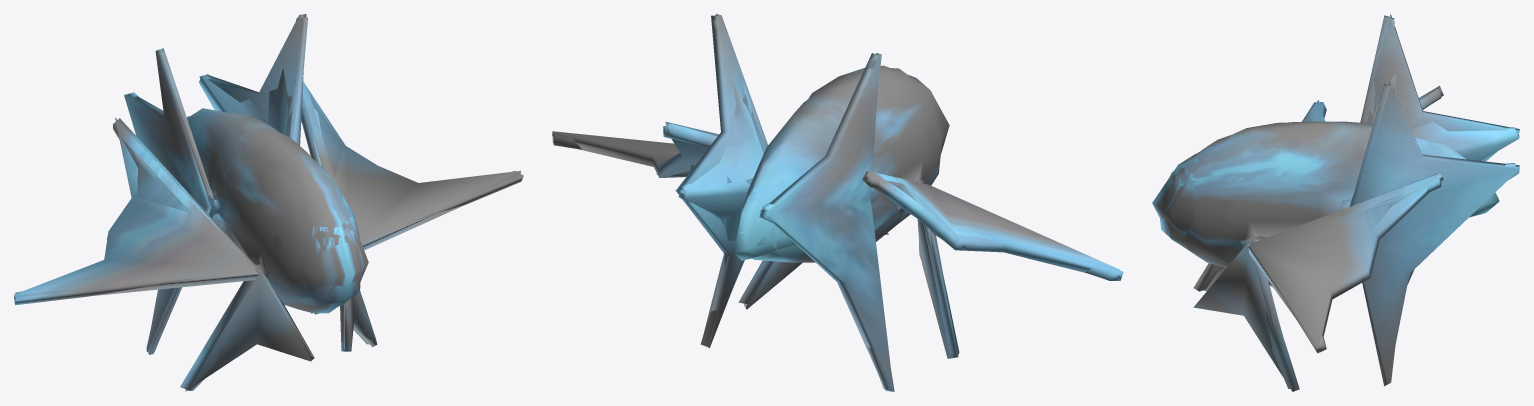
File: shundi-shield.obj
3 renders of one model, left to right at view 1: azimuth 30°, elevation 25°; view 2: azimuth 150°, elevation 25°; view 3: azimuth 270°, elevation 25°, orthographic. The views are drawn at different scales.
Bounding box in the file's own units: 1577 × 893 × 1002.
